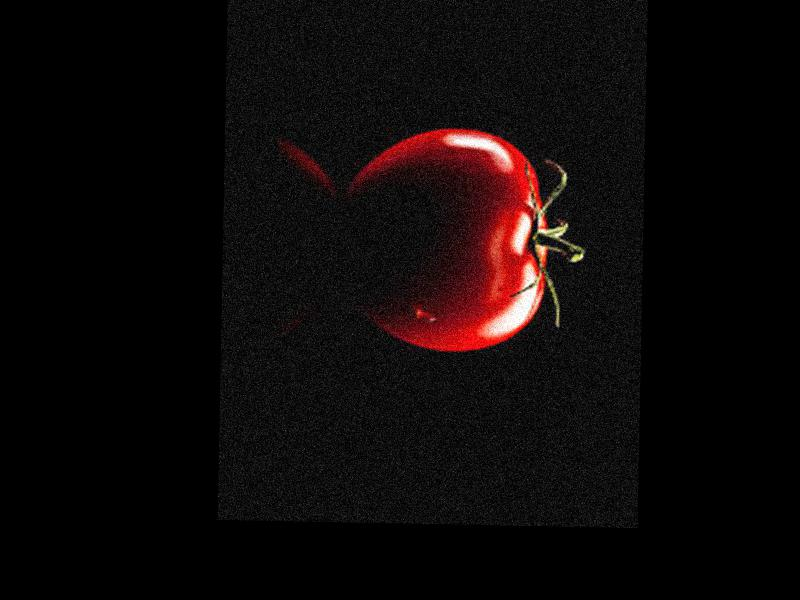Tomato: (349, 127, 555, 353)
